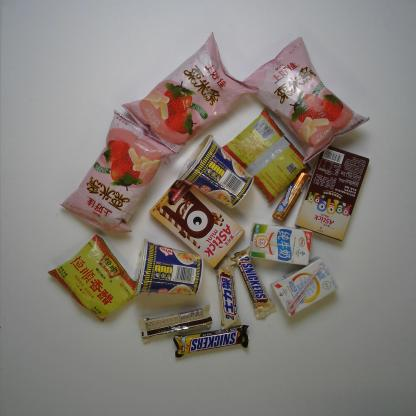Candy: (272, 170, 311, 222)
Chocolate: (231, 246, 275, 320), (138, 304, 213, 344), (172, 324, 250, 360), (214, 257, 242, 329)
Dessert: (149, 177, 244, 268), (295, 143, 371, 244)
Instant Noodles: (178, 134, 255, 209), (134, 238, 204, 297)
Milk: (271, 256, 340, 319), (249, 222, 313, 266)
Puffed Food: (120, 31, 260, 154), (240, 37, 372, 165), (58, 110, 178, 235)
Seasoner: (221, 107, 312, 205), (47, 234, 139, 322)
